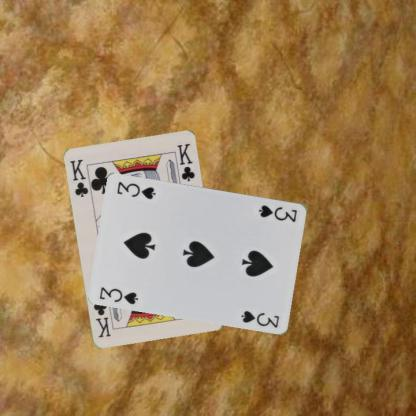3s: (97, 284, 140, 306), (256, 202, 299, 223)
Kc: (68, 156, 90, 198)
